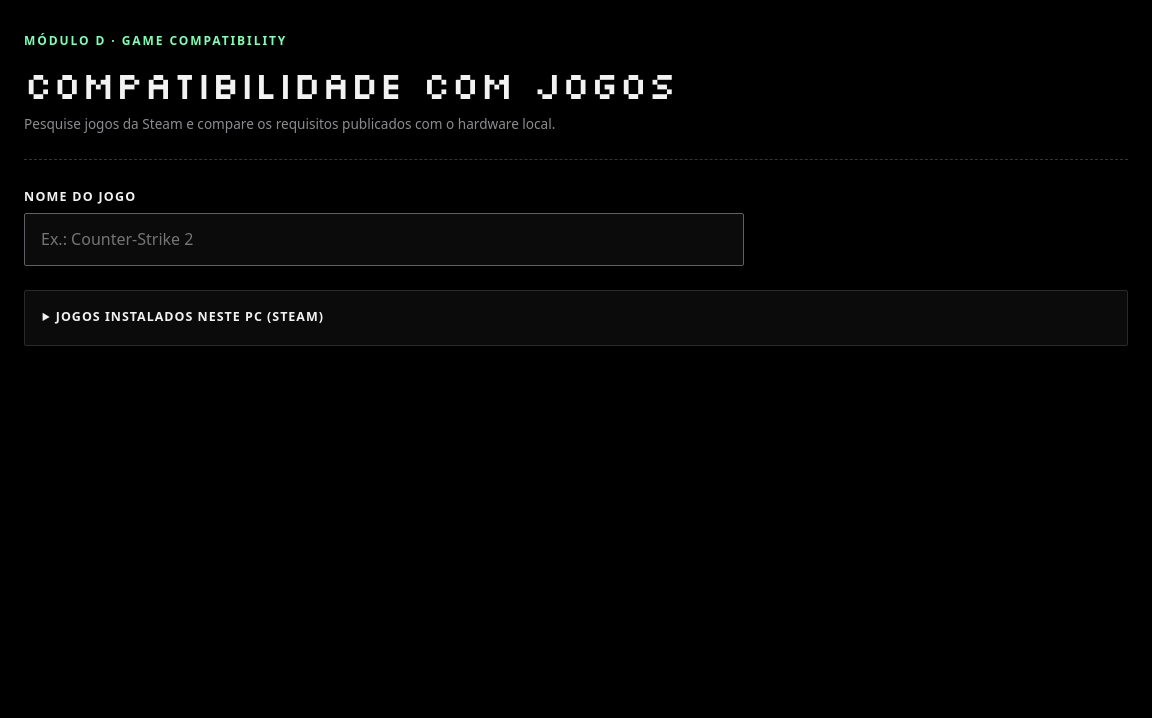
Test: GameCompatibilityPage › mostra a classificação geral com os motivos
In the field labelled "Nome do jogo": [384, 239] box [24,213,744,266], type "Jogo"
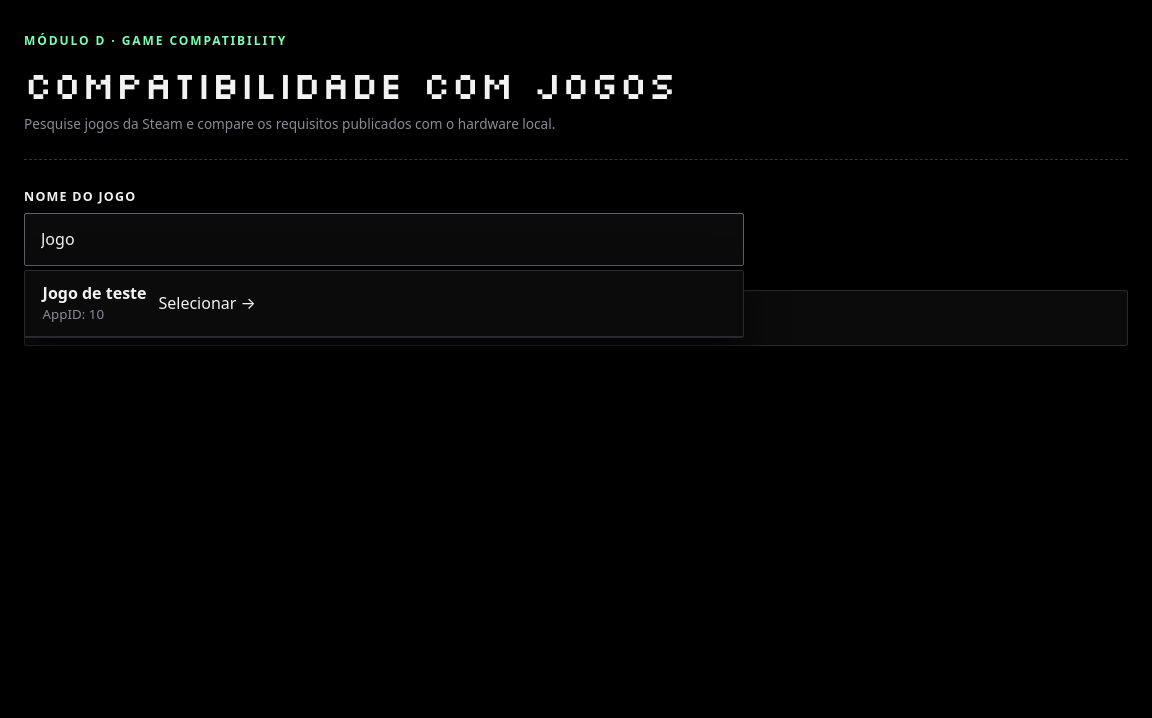
Click the button "Jogo de teste AppID: 10 Selecionar →": [95, 293] box [25,271,743,337]
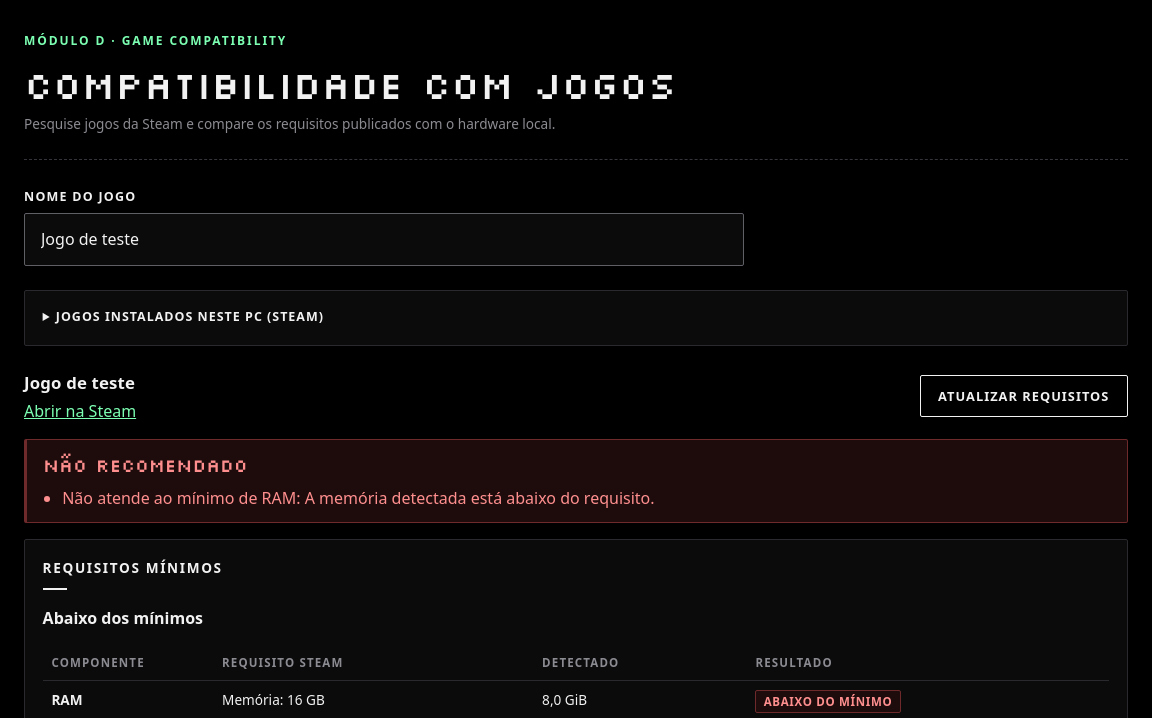
expect the text "Não recomendado" is shown: met, box [43,453,248,477]
expect the list item "Não atende ao mínimo de RAM" is shown: met, box [62,487,655,509]
